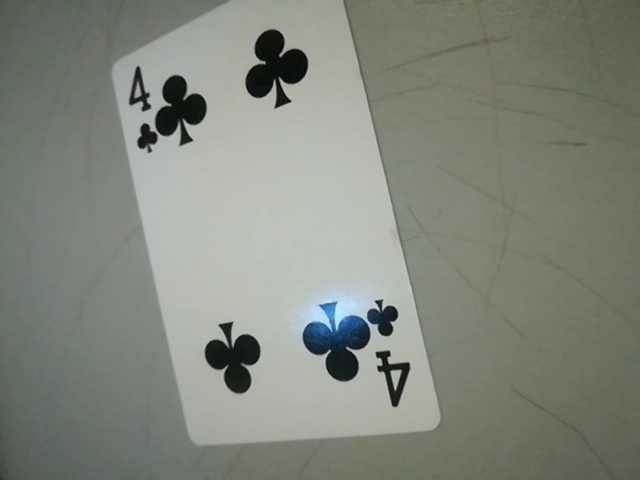mh 4: (361, 287, 423, 418)
